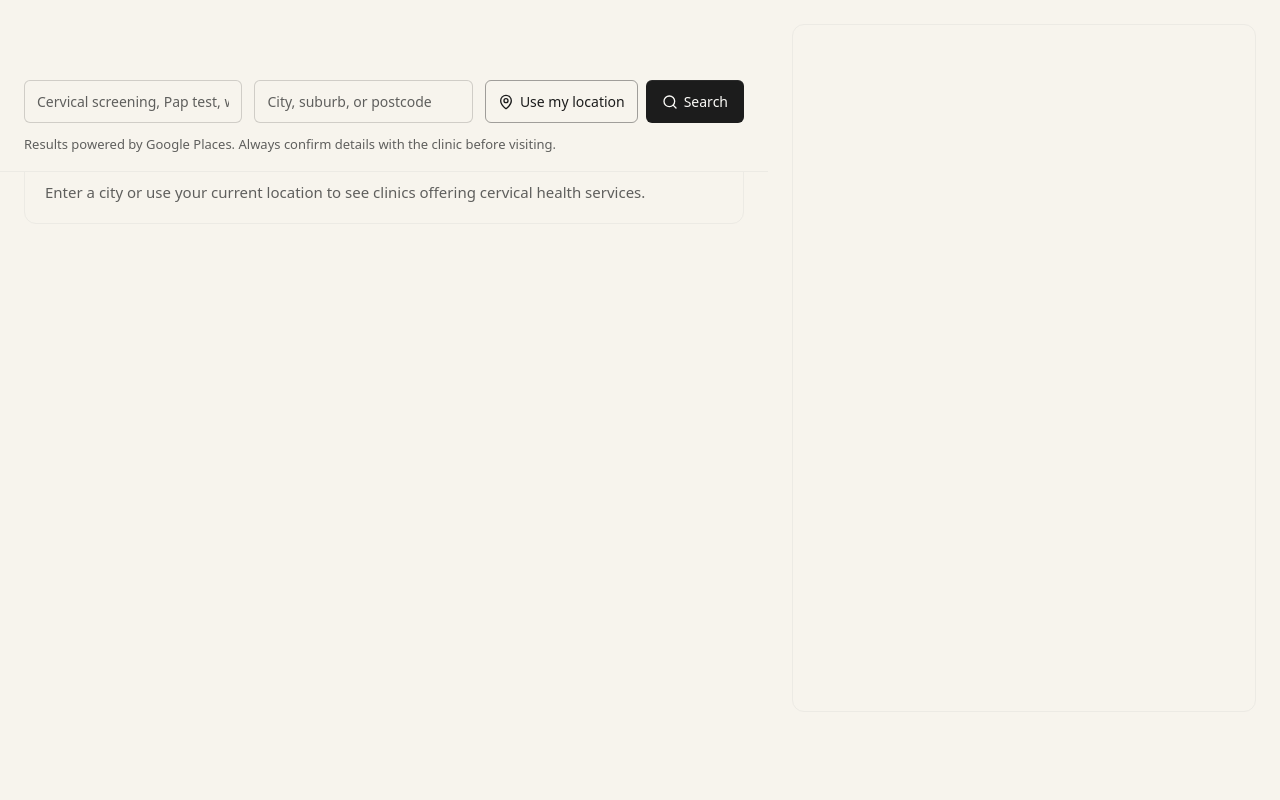
ClinicsPage › empty state › renders the empty state when API returns 0 clinics
The image size is (1280, 800).
Type "Nowhere" into the field with placeholder "City, suburb, or postcode". click: (364, 102)
box: [254, 80, 473, 123]
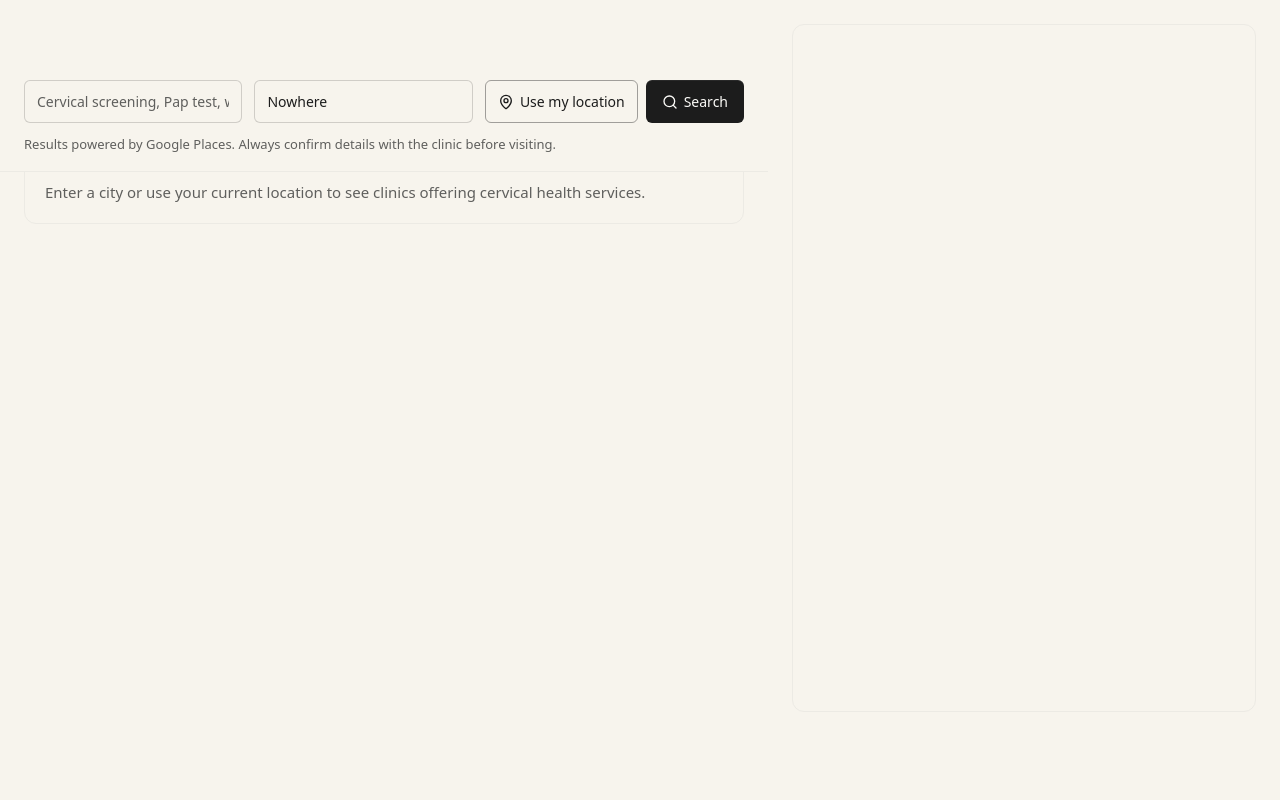
Click the button "Search". click: (695, 102)
box: [646, 80, 744, 123]
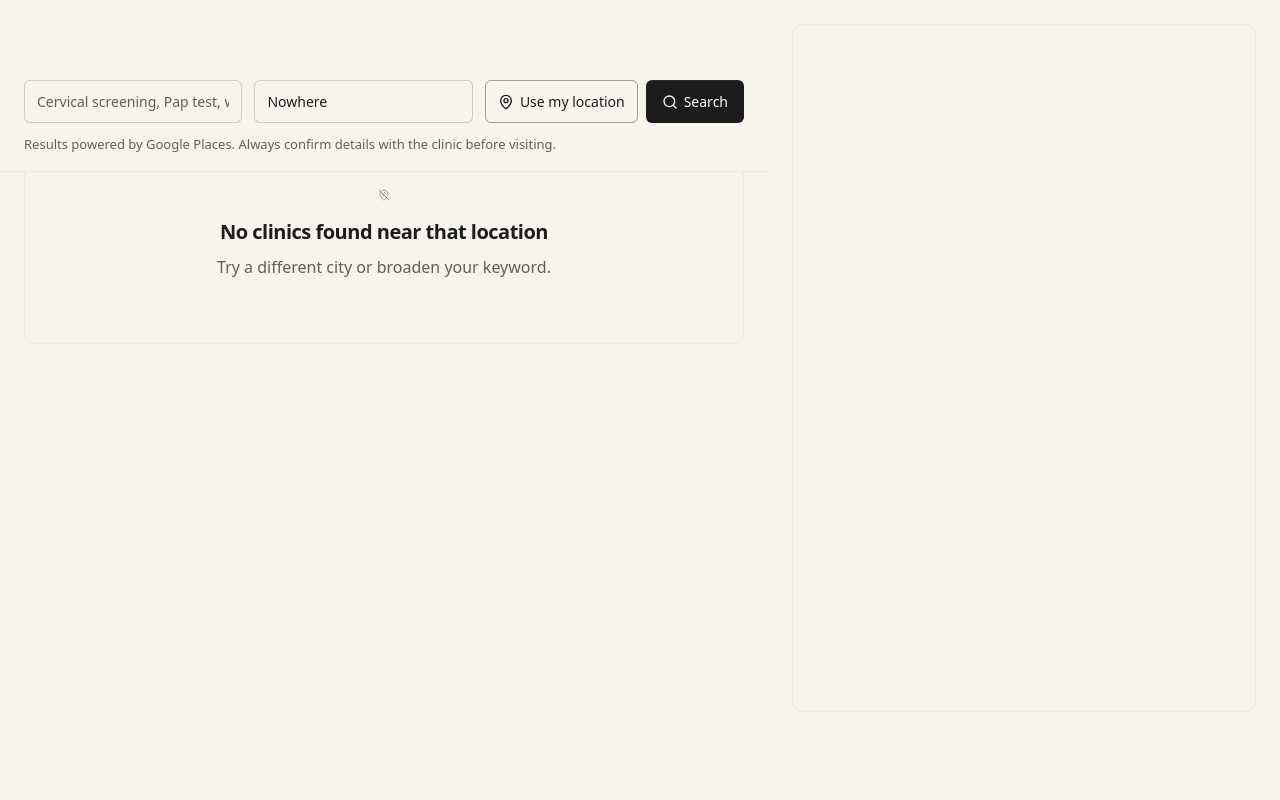
Expected: the heading "No clinics found near that location" is shown, [220, 216, 548, 246]
